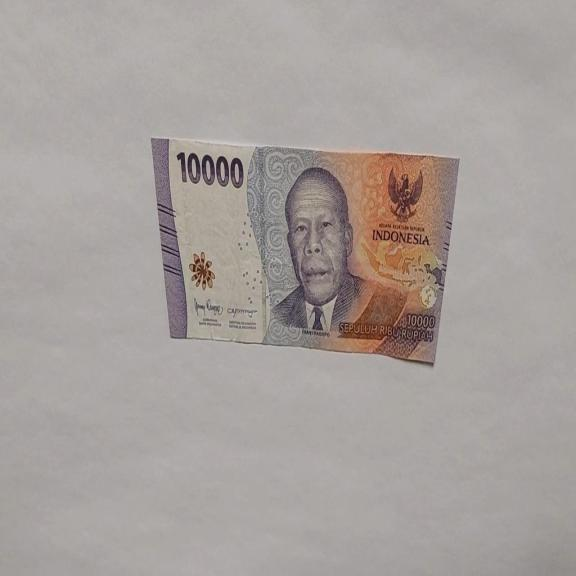Kertas: (150, 134, 460, 366), (175, 149, 244, 190)
